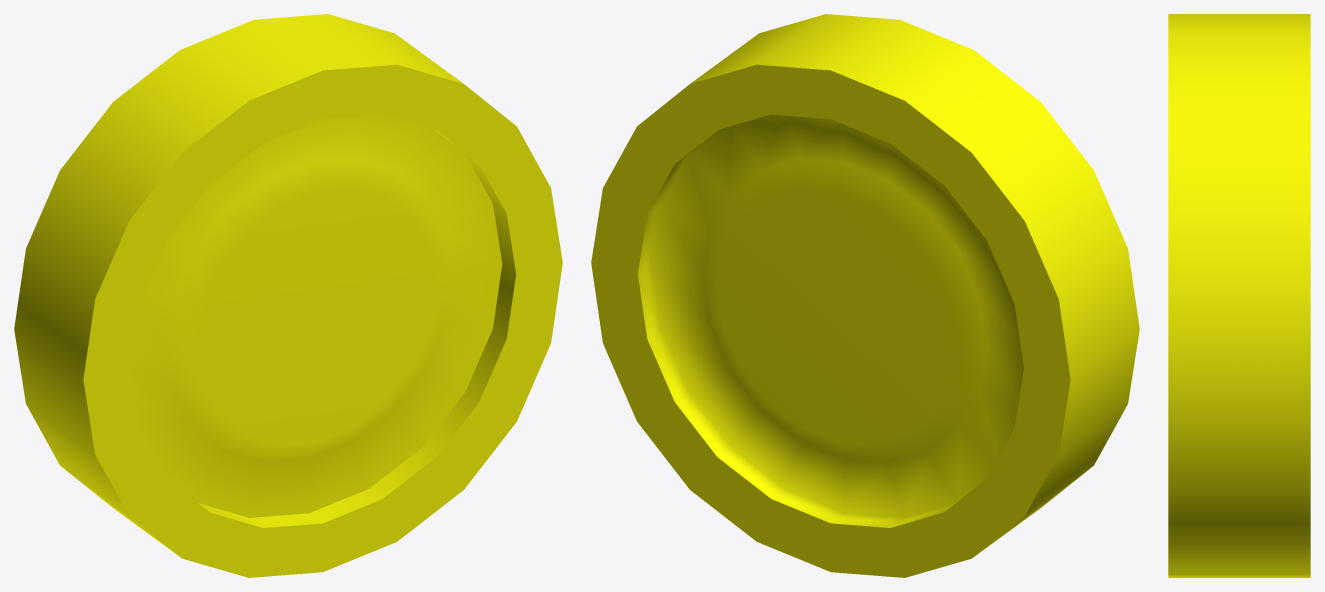
File: Point-Coin-Animated.fbx
3 views of the same model, side by side, from view 1: azimuth 30°, elevation 25°; view 2: azimuth 150°, elevation 25°; view 3: azimuth 270°, elevation 25° (orthographic). The views are drawn at different scales.
Parts seen in each view (by area): view 1: Point_Coin; view 2: Point_Coin; view 3: Point_Coin.
Part boxes in pixels (x1,y1,x2,y2): Point_Coin: (14,14,562,577); Point_Coin: (591,14,1139,577); Point_Coin: (1168,14,1310,577).
Size of the model in its own units: 2 by 2 by 0.5.
